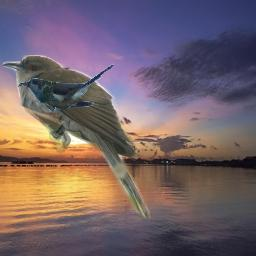Cuckoo: (3, 55, 151, 223), (18, 63, 117, 112)
